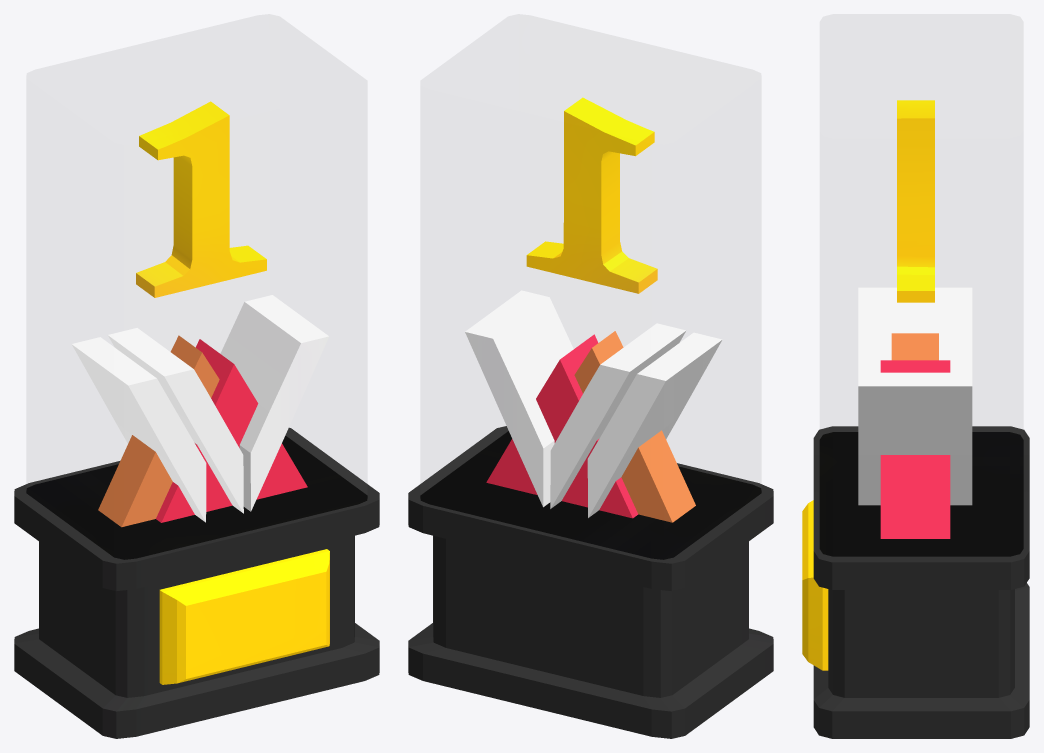
File: c8a9dfcb-8e0c-4d29-903c-1f43091897b0.glb
The picture shows the model from 3 angles, left to right: view 1: azimuth 30°, elevation 25°; view 2: azimuth 150°, elevation 25°; view 3: azimuth 270°, elevation 25°; orthographic projection.
Visible parts, largest first — view 1: IWBTrophyGold, IWBTrophyGoldNumber; view 2: IWBTrophyGold, IWBTrophyGoldNumber; view 3: IWBTrophyGold, IWBTrophyGoldNumber.
Part boxes in pixels (<box>): IWBTrophyGold: <box>14,295,379,738</box>; IWBTrophyGoldNumber: <box>136,101,266,297</box>; IWBTrophyGold: <box>408,290,773,738</box>; IWBTrophyGoldNumber: <box>526,97,657,293</box>; IWBTrophyGold: <box>802,287,1029,738</box>; IWBTrophyGoldNumber: <box>897,100,934,302</box>.
Size of what is drawn, in the model's own units: 1.18 by 2.4 by 0.8324.
Materials: 3 (3 with a texture image).
